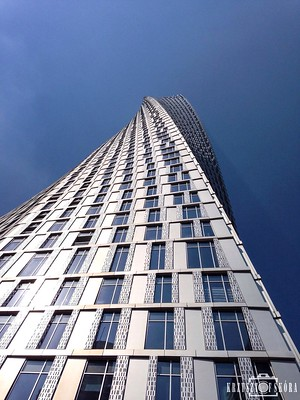high: (4, 74, 300, 400)
